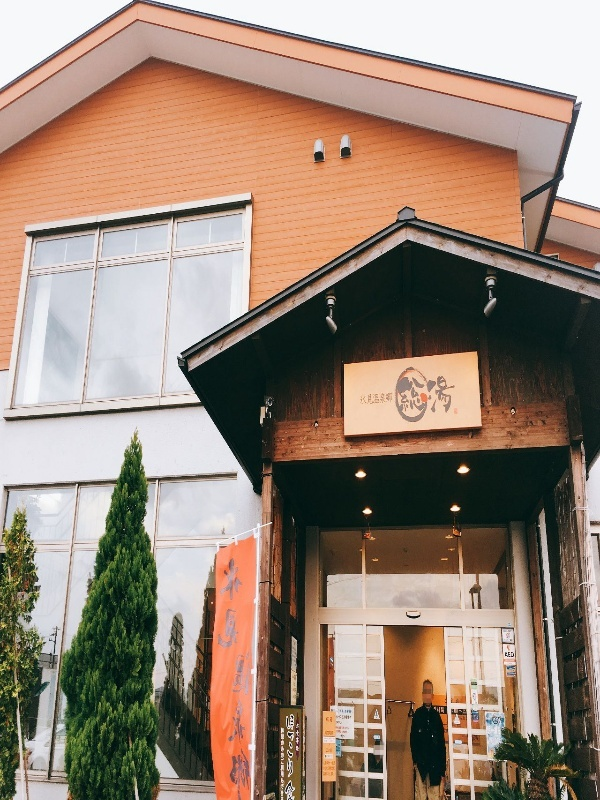text: (225, 557, 240, 800), (241, 557, 253, 800), (337, 709, 353, 780), (322, 709, 336, 780), (220, 557, 224, 800), (291, 635, 304, 706), (449, 695, 464, 741), (434, 695, 448, 741), (401, 374, 416, 414), (417, 374, 432, 414), (433, 374, 448, 414), (289, 715, 296, 800), (281, 728, 288, 799), (485, 715, 496, 759), (465, 695, 474, 741), (471, 680, 480, 724), (497, 715, 505, 759), (375, 711, 384, 740), (449, 374, 455, 414), (296, 723, 304, 753), (369, 393, 384, 405), (286, 715, 288, 800), (385, 393, 393, 405), (361, 393, 368, 405), (398, 374, 400, 414), (505, 651, 512, 658), (503, 630, 512, 634), (513, 651, 514, 658)
